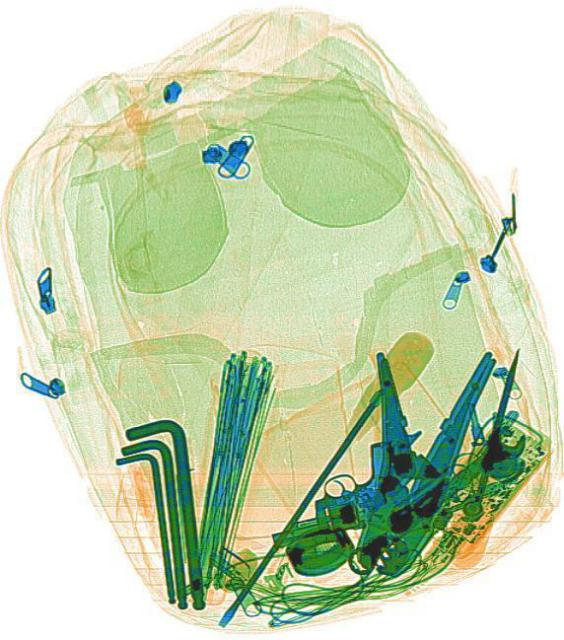Gun: (254, 438, 406, 550)
Wrench: (335, 413, 528, 579)
